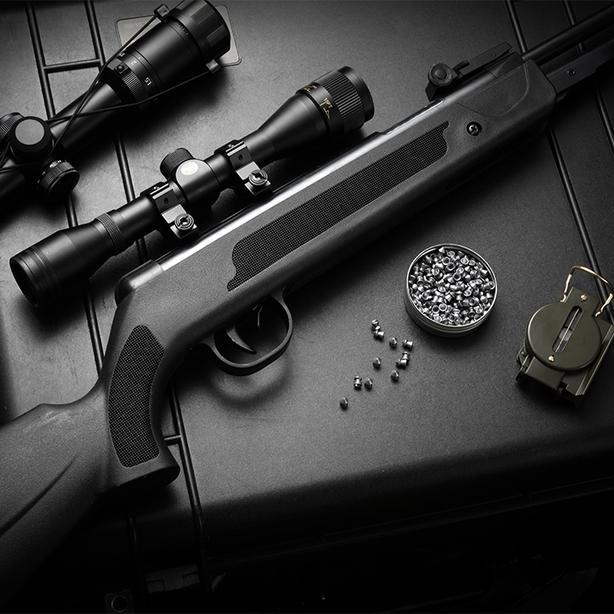Firearm: (0, 9, 611, 602)
